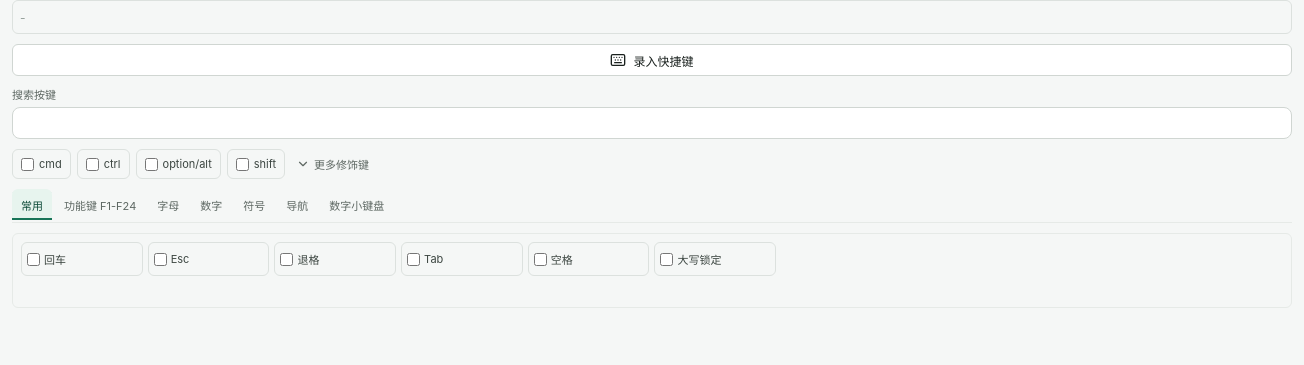
Test case: keeps the portable primary modifier out of the compact choices
Expected: the checkbox labelled "cmd/ctrl" is not shown
Expected: the checkbox labelled "cmd" is shown, x1=21 y1=158 x2=34 y2=170
Click the button "更多修饰键". click: (333, 164)
box: x1=291 y1=149 x2=374 y2=179
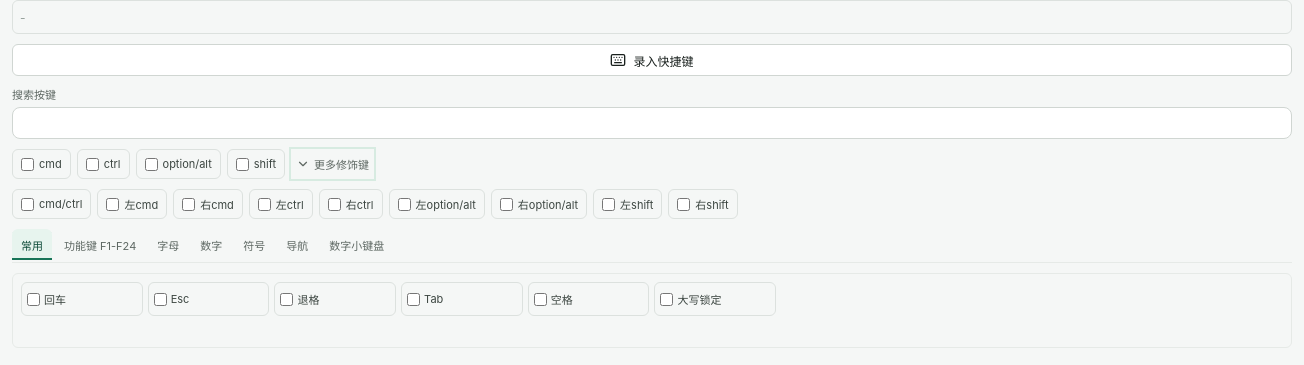
Expected: the checkbox labelled "cmd/ctrl" is shown, x1=21 y1=198 x2=34 y2=210
